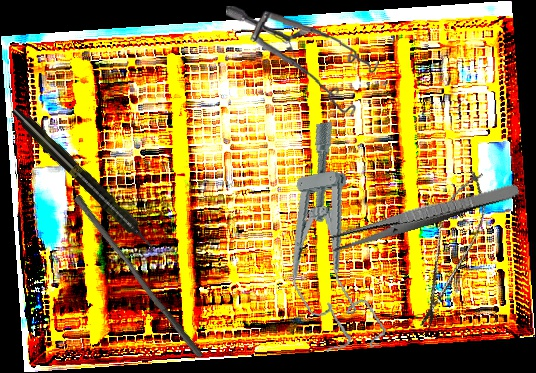Dressing Forceps: (328, 177, 521, 255)
Handpiece: (7, 103, 162, 257)
Micro Scissor: (407, 165, 497, 335)
Pusher: (68, 194, 210, 359)
Speculum: (266, 118, 389, 359), (220, 5, 382, 118)
